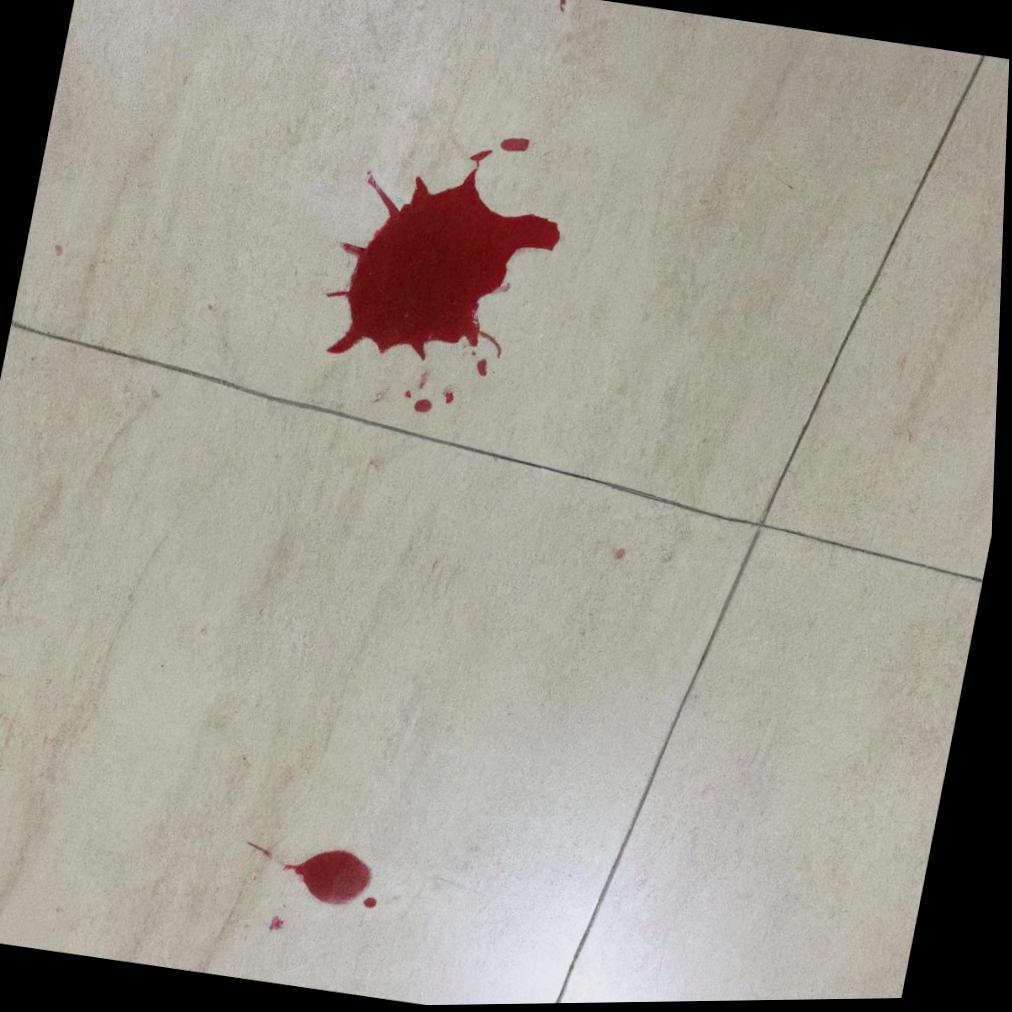Fire: (326, 150, 563, 363), (291, 850, 377, 906), (500, 139, 530, 153), (415, 399, 434, 414), (478, 359, 490, 377), (370, 897, 384, 909), (447, 392, 457, 405)
